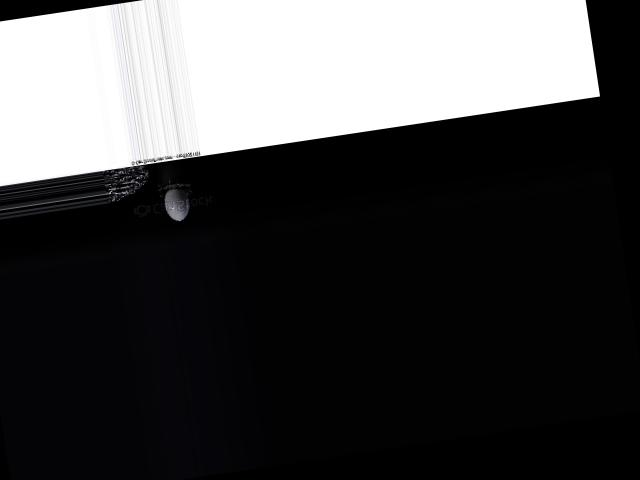egg: (162, 185, 192, 222)
